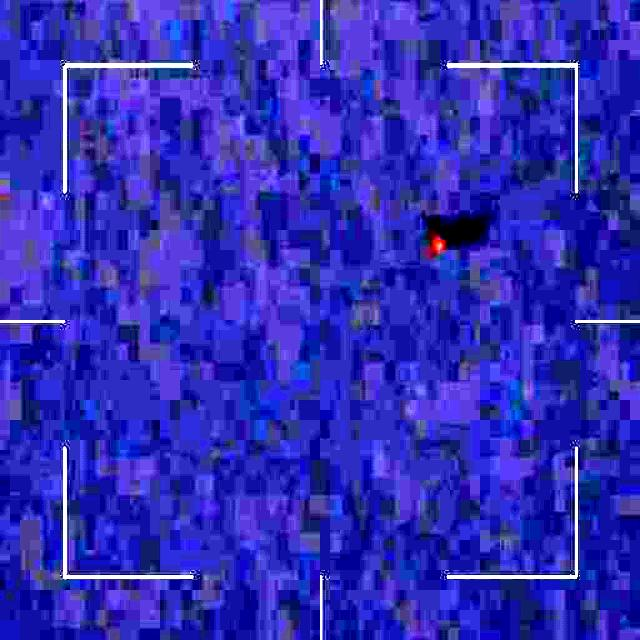bird: (422, 222, 452, 261)
